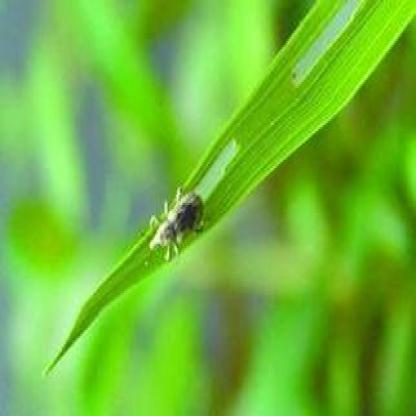rice-bug: (143, 181, 209, 264)
